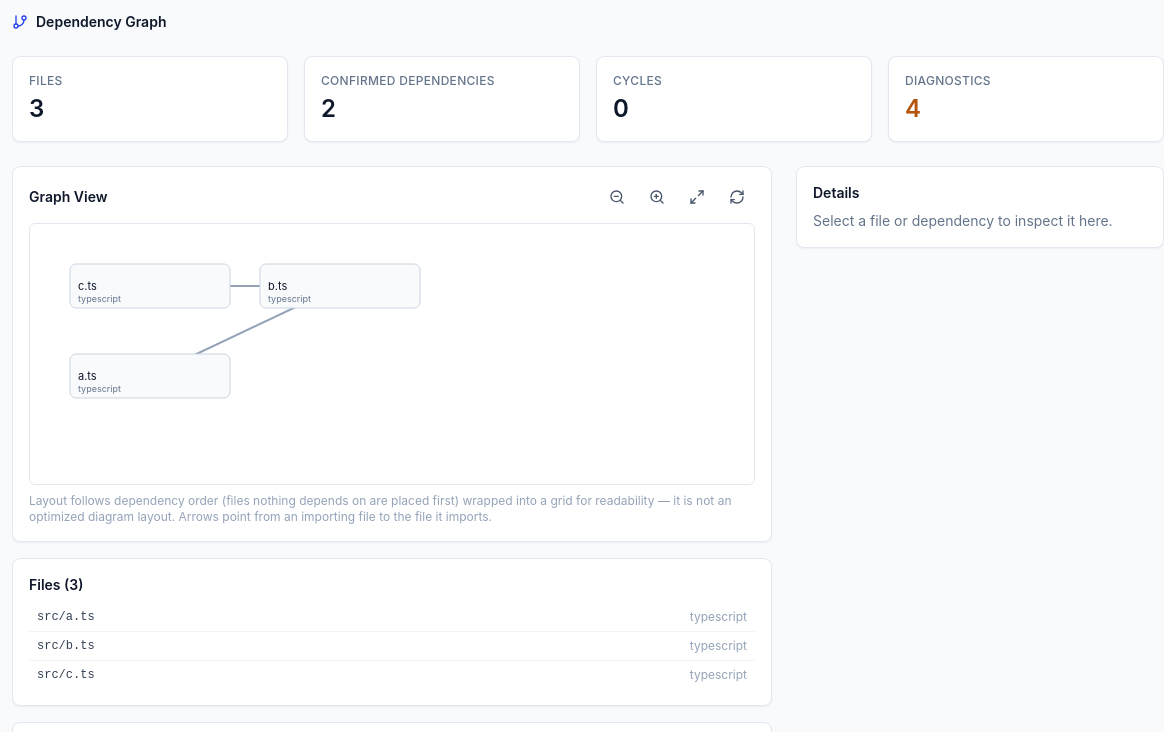
ProjectGraphTab › selecting a node shows its dependencies and dependents in the details panel
Click the text "src/a.ts": [66, 617] box [29,603,393,632]
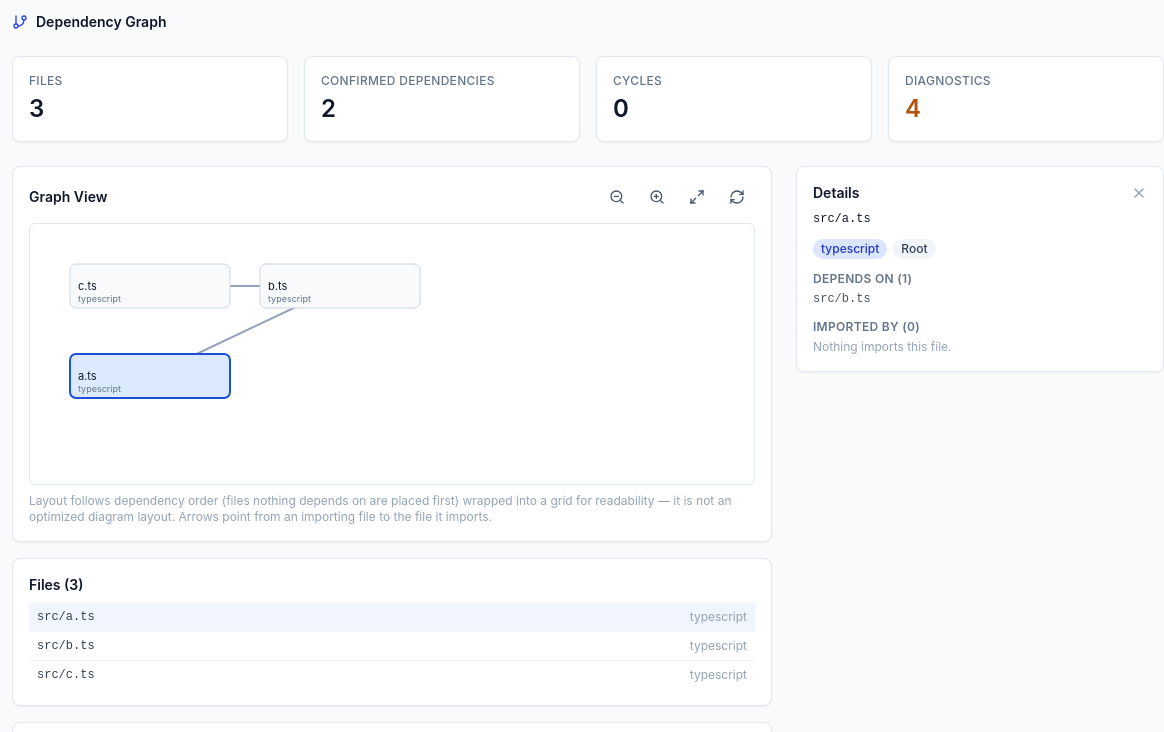
Check: the text "Depends on (1)" is shown, box [813,271,912,286]
Check: the text "Imported by (0)" is shown, box [813,319,920,334]
